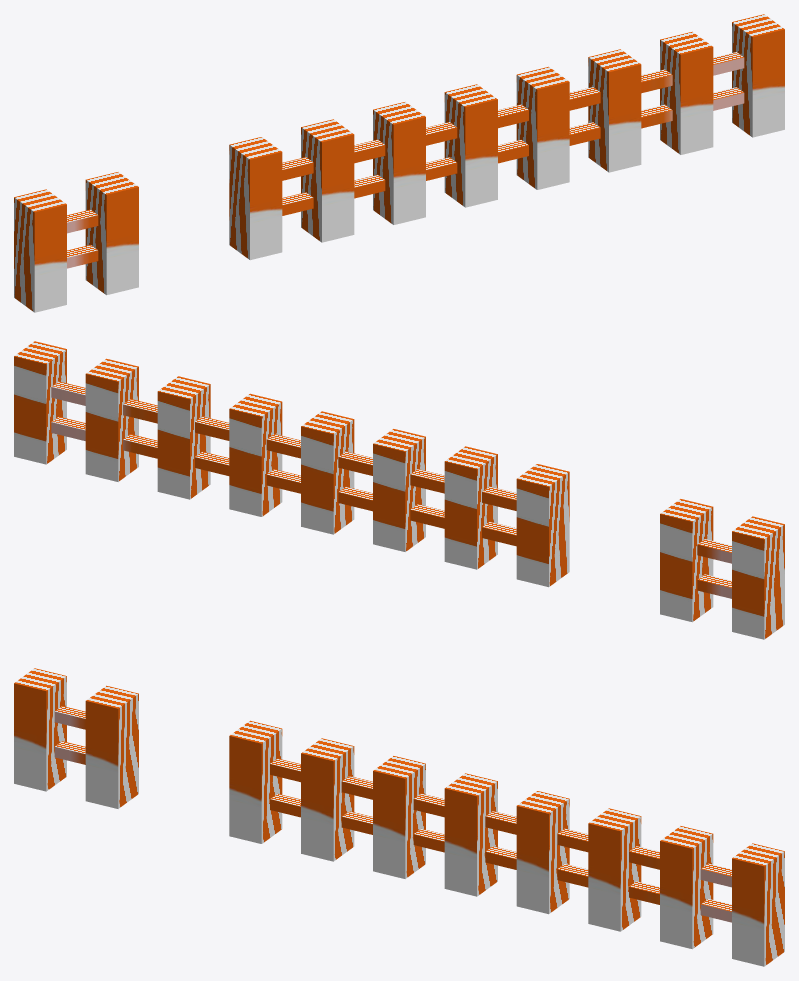
Rendered from Fence7.fbx.
The picture shows the model from 3 angles, top to bottom: view 1: azimuth 30°, elevation 25°; view 2: azimuth 150°, elevation 25°; view 3: azimuth 330°, elevation 25°; orthographic projection.
Visible parts, largest first — view 1: fence_short_mesh; view 2: fence_short_mesh; view 3: fence_short_mesh.
Part boxes in pixels (x1,y1,x2,y2): fence_short_mesh: (14, 14, 784, 312); fence_short_mesh: (14, 341, 784, 639); fence_short_mesh: (14, 668, 784, 966).
Bounding box in the file's own units: 836 × 107 × 39.99.
